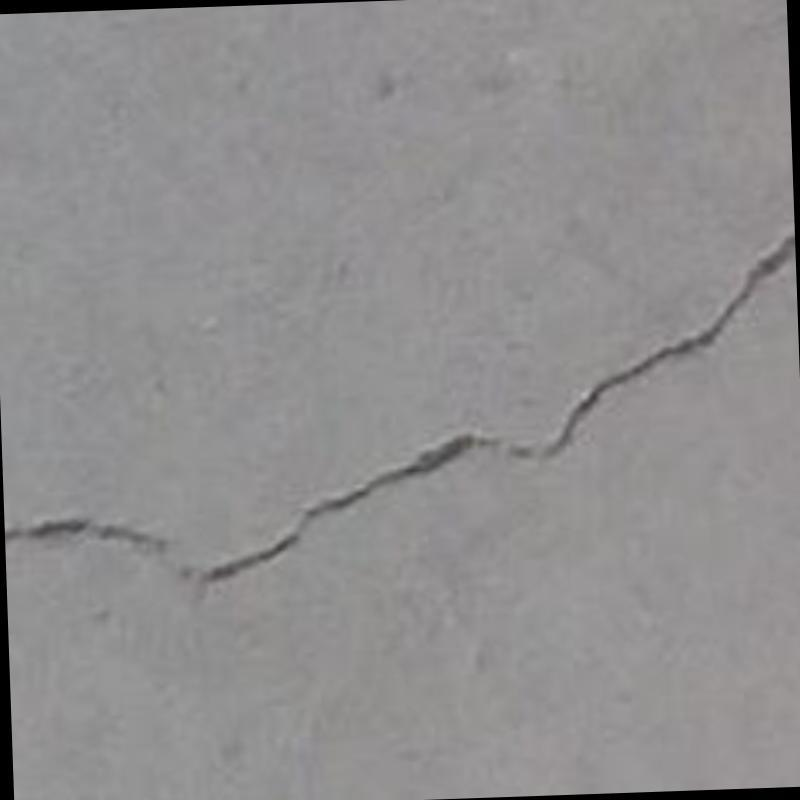pothole: (5, 229, 792, 588)
